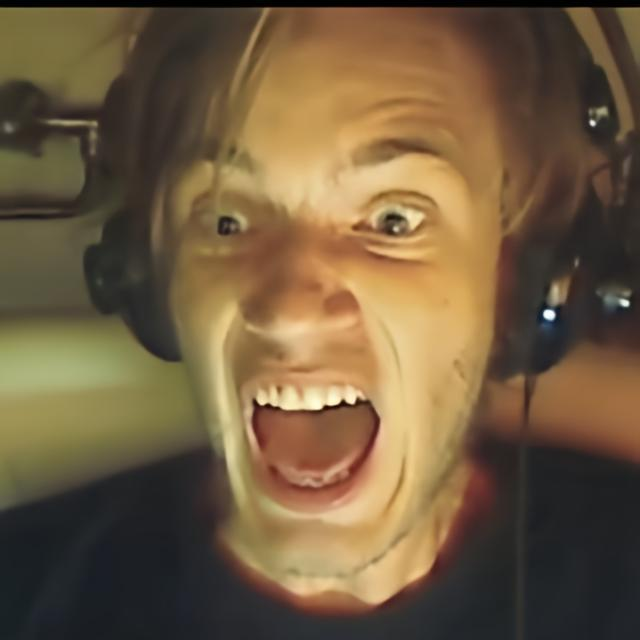fear: (164, 4, 506, 578)
